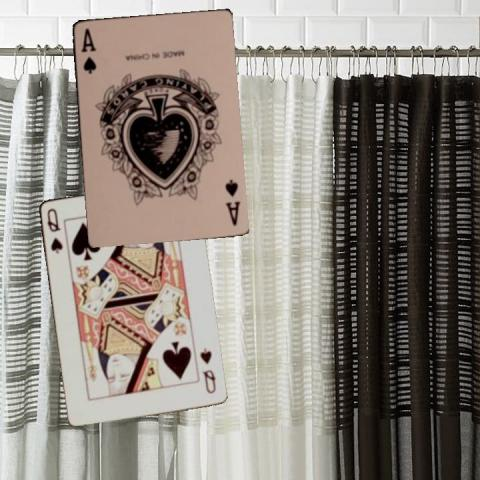As: (222, 176, 241, 227), (78, 24, 97, 74)
Qs: (43, 205, 64, 255), (197, 346, 216, 395)
